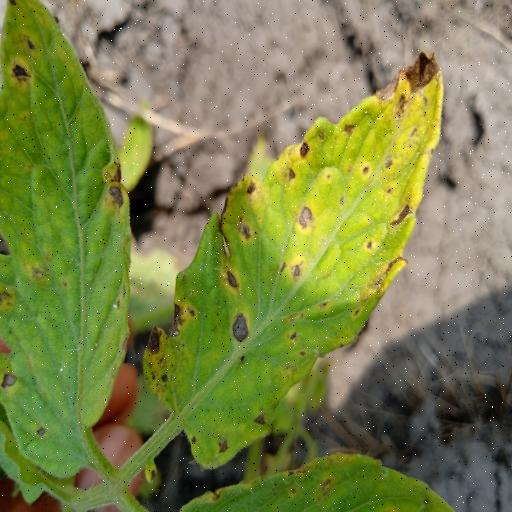Tomato_Brown_Spots: (134, 43, 456, 476)
